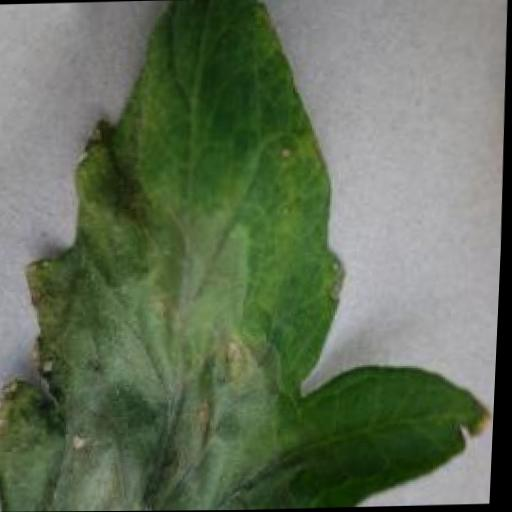Late Blight: (0, 0, 508, 512)
